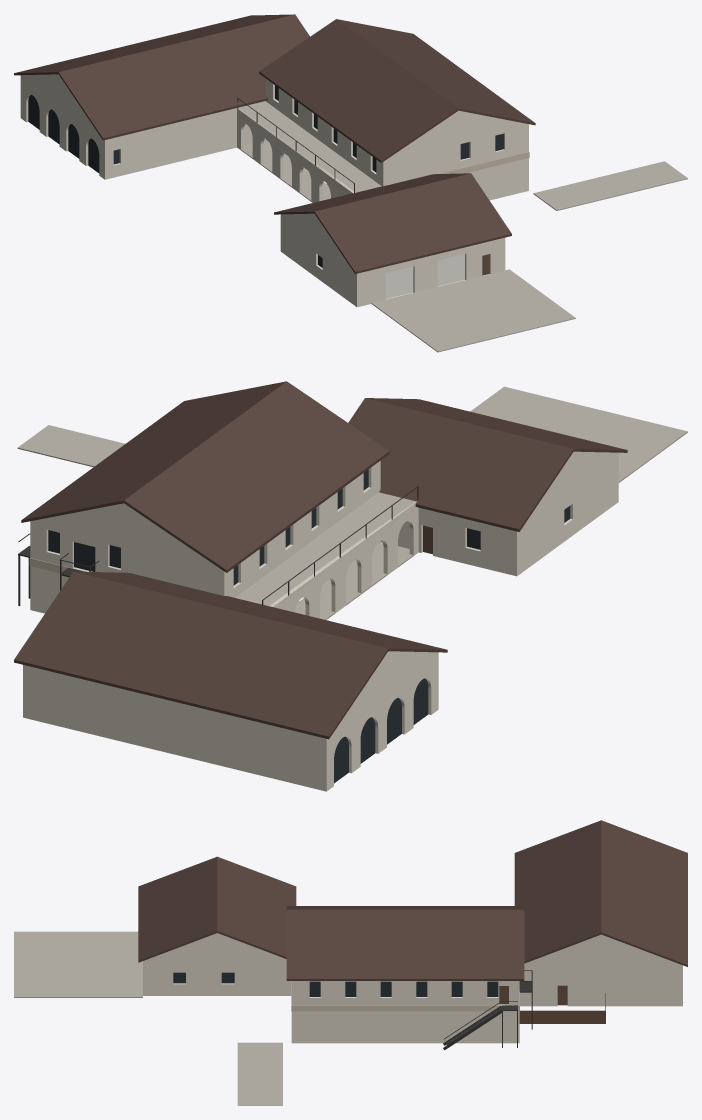
Rendered from 7824-zero-rd.glb.
3 renders of one model, top to bottom at view 1: azimuth 30°, elevation 25°; view 2: azimuth 150°, elevation 25°; view 3: azimuth 270°, elevation 25°, orthographic. The views are drawn at different scales.
Visible parts, largest first — view 1: roof (×3), wall (×7), driveway_apron, gable (×3), deck, east_slab, garage (×2), porch_floor, floor_band; view 2: roof (×3), wall (×7), gable (×3), driveway_apron, deck, east_slab, porch_floor; view 3: roof (×3), wall (×3), driveway_apron, gable (×2), east_slab, floor_band, fence.
Part boxes in pixels (left/top/right/bottom): roof (×3): left=14, top=14, right=535, bottom=273; wall (×7): left=23, top=78, right=528, bottom=307; driveway_apron: left=371, top=269, right=575, bottom=352; gable (×3): left=20, top=74, right=528, bottom=265; deck: left=238, top=101, right=381, bottom=193; east_slab: left=533, top=161, right=687, bottom=210; garage (×2): left=385, top=254, right=464, bottom=298; porch_floor: left=241, top=139, right=330, bottom=202; floor_band: left=439, top=152, right=529, bottom=173; roof (×3): left=14, top=381, right=627, bottom=739; wall (×7): left=23, top=456, right=615, bottom=791; gable (×3): left=30, top=451, right=618, bottom=727; driveway_apron: left=470, top=386, right=687, bottom=482; deck: left=235, top=492, right=415, bottom=606; east_slab: left=17, top=425, right=125, bottom=467; porch_floor: left=294, top=542, right=413, bottom=619; roof (×3): left=138, top=820, right=687, bottom=980; wall (×3): left=147, top=961, right=678, bottom=1043; driveway_apron: left=14, top=931, right=142, bottom=997; gable (×2): left=144, top=933, right=681, bottom=965; east_slab: left=237, top=1042, right=282, bottom=1105; floor_band: left=291, top=1005, right=519, bottom=1011; fence: left=519, top=1010, right=605, bottom=1023.
Size of what is drawn, in the model's own units: 46.88 by 10.56 by 63.65.
